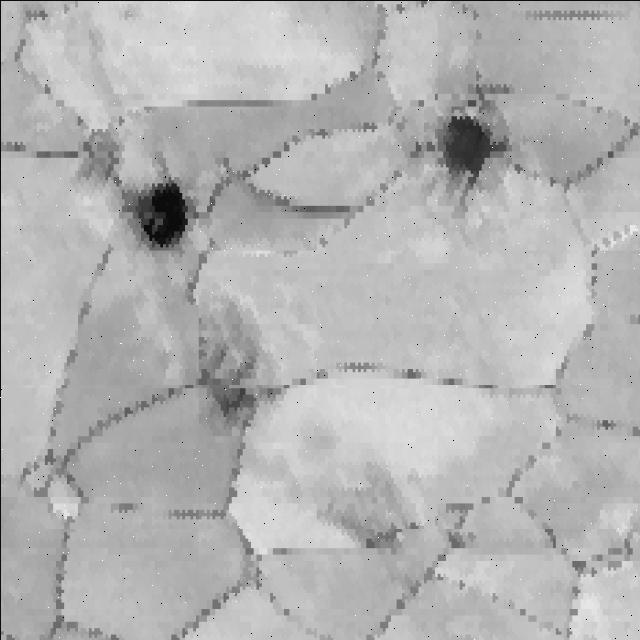good_void: (314, 451, 427, 559), (190, 294, 272, 427), (439, 103, 513, 193), (123, 171, 199, 256), (76, 111, 136, 190)
